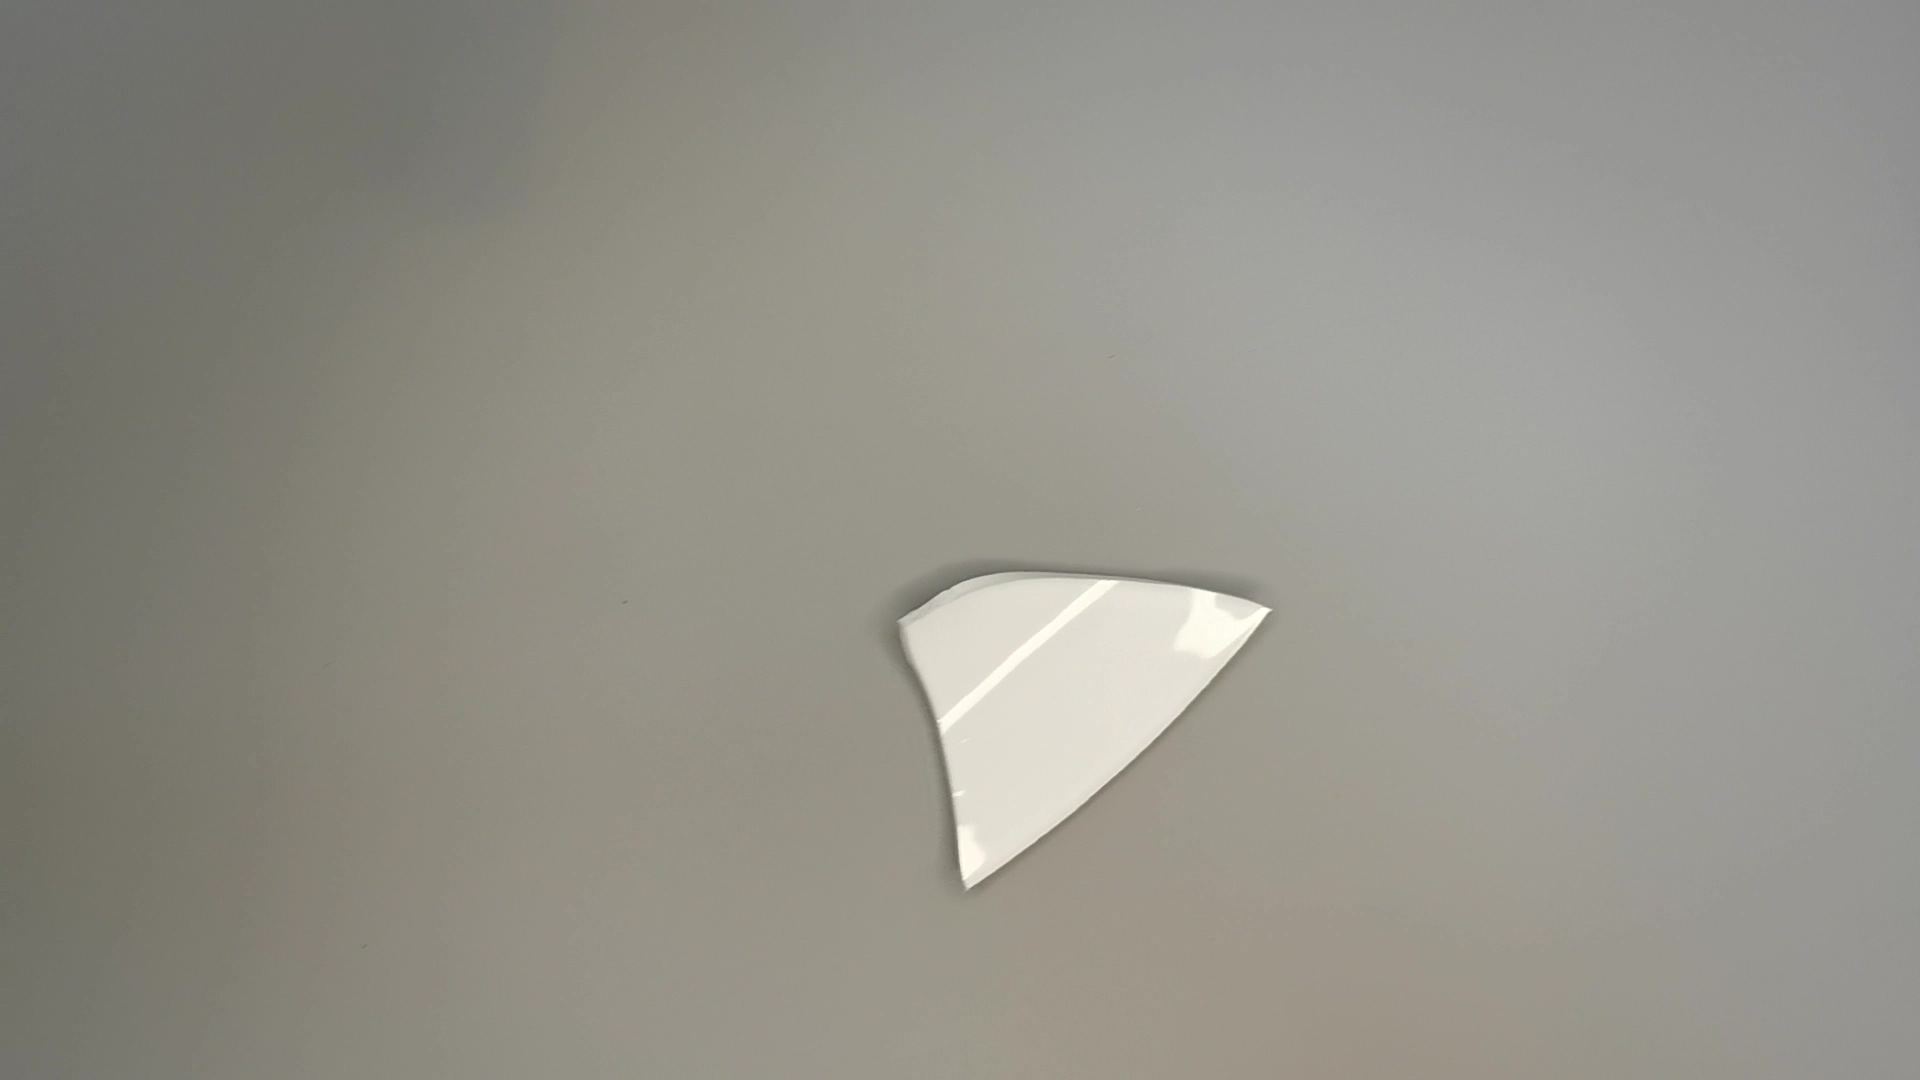ceramic: (887, 564, 1273, 899)
